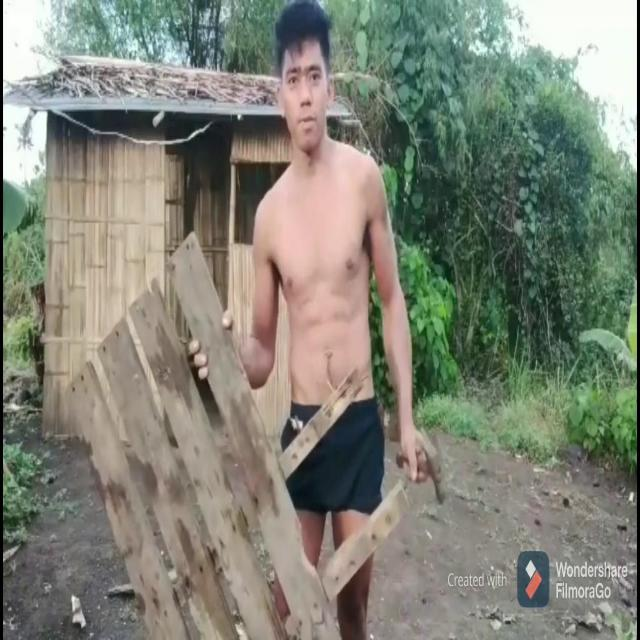hammer: (395, 425, 451, 510)
